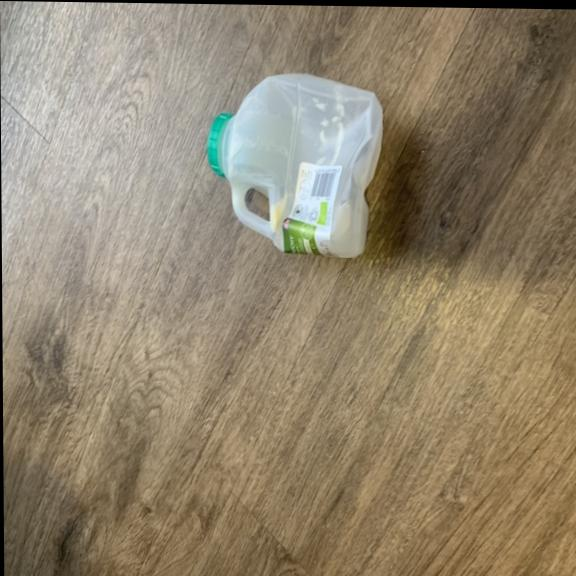Plastik: (201, 67, 390, 270)
